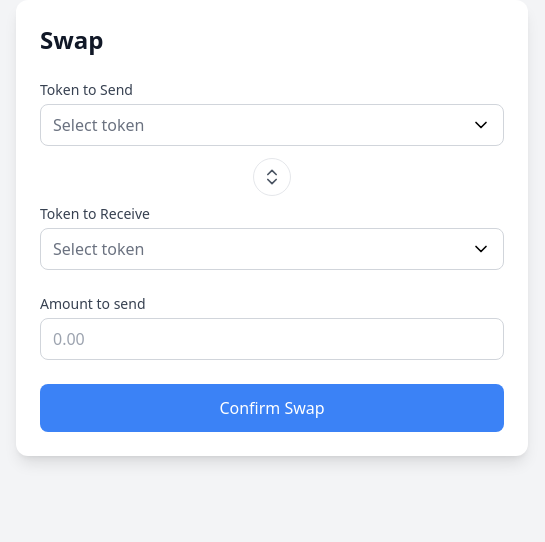
SwapForm › should display validation message when "Amount to Send" is less than zero
The image size is (545, 542).
Type "-1" into the number field labelled "Amount to send" at point(272, 339), box [40,318,504,360]
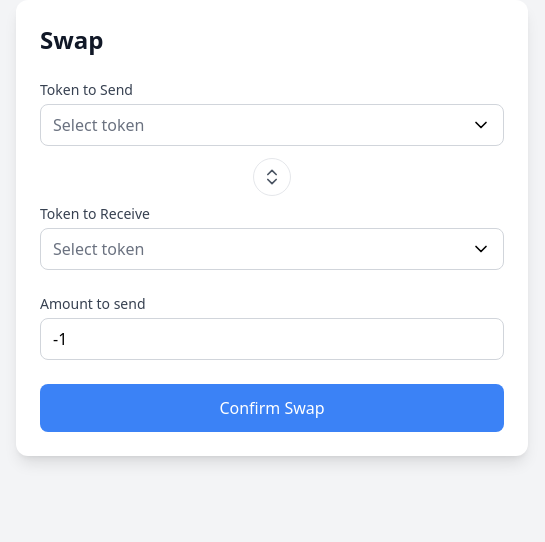
Submit the form
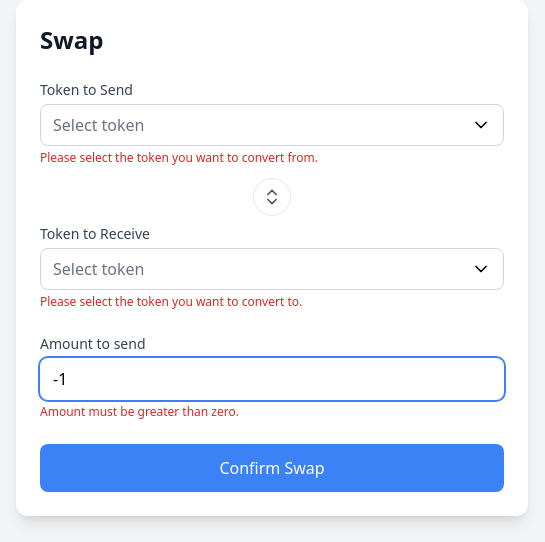
Now the text "Amount must be greater than zero." is shown, box [40,403,239,420]
